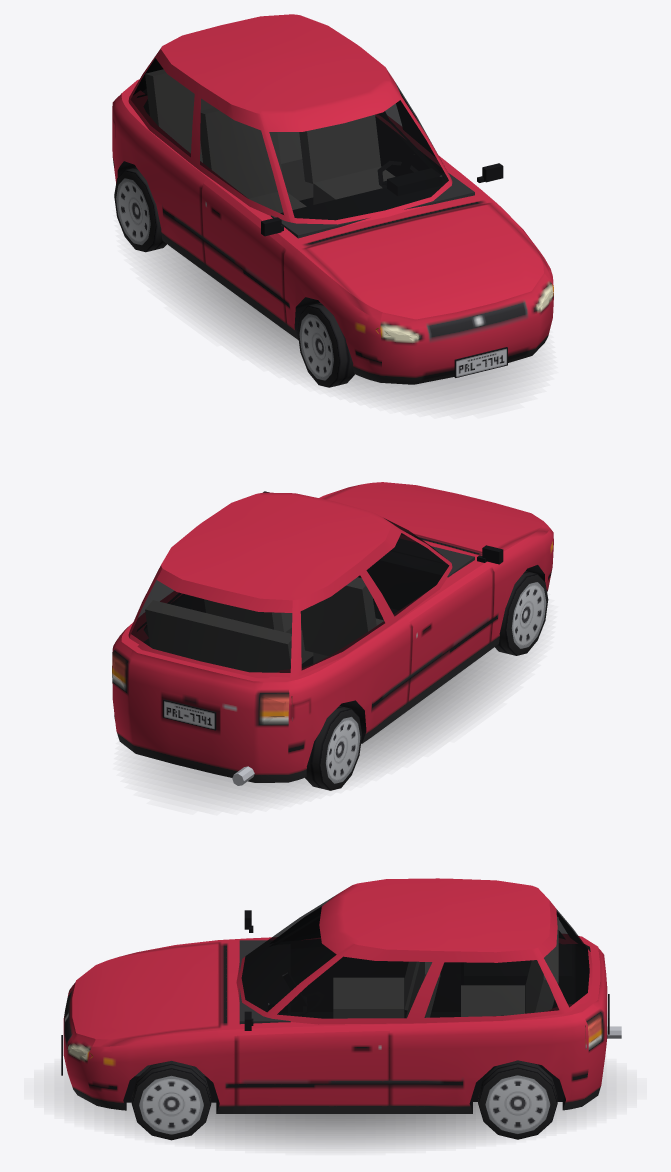
The model's file is pirulito.glb.
The picture shows the model from 3 angles, top to bottom: view 1: azimuth 30°, elevation 25°; view 2: azimuth 150°, elevation 25°; view 3: azimuth 270°, elevation 25°; orthographic projection. The views are drawn at different scales.
Parts seen in each view (by area): view 1: Carroceria, Interior, Capo_malha, Porta_D_malha, Sombra, Roda_DD, Roda_TD, Porta_E_malha; view 2: Carroceria, Tampa_malha, Interior, Porta_D_malha, Sombra, Capo_malha, Roda_TD, Roda_DD, Lanterna; view 3: Carroceria, Interior, Porta_E_malha, Capo_malha, Sombra, Roda_DE, Roda_TE, Tampa_malha, Porta_D_malha.
Boxes of the visible parts, x1=… form: Carroceria: x1=112, y1=14, x2=553, y2=384; Interior: x1=137, y1=70, x2=474, y2=238; Capo_malha: x1=305, y1=203, x2=549, y2=320; Porta_D_malha: x1=201, y1=103, x2=290, y2=322; Sombra: x1=146, y1=244, x2=531, y2=404; Roda_DD: x1=297, y1=302, x2=354, y2=387; Roda_TD: x1=114, y1=167, x2=166, y2=252; Porta_E_malha: x1=385, y1=67, x2=503, y2=182; Carroceria: x1=112, y1=485, x2=553, y2=785; Tampa_malha: x1=127, y1=568, x2=292, y2=761; Interior: x1=137, y1=539, x2=474, y2=671; Porta_D_malha: x1=383, y1=525, x2=503, y2=701; Sombra: x1=142, y1=647, x2=522, y2=800; Capo_malha: x1=324, y1=482, x2=549, y2=552; Roda_TD: x1=305, y1=706, x2=362, y2=790; Roda_DD: x1=495, y1=571, x2=548, y2=655; Lanterna: x1=112, y1=652, x2=292, y2=722; Carroceria: x1=61, y1=878, x2=621, y2=1113; Interior: x1=135, y1=916, x2=590, y2=1076; Porta_E_malha: x1=237, y1=944, x2=389, y2=1105; Capo_malha: x1=78, y1=942, x2=219, y2=1046; Sombra: x1=64, y1=1076, x2=606, y2=1146; Roda_DE: x1=131, y1=1061, x2=211, y2=1140; Roda_TE: x1=478, y1=1060, x2=557, y2=1139; Tampa_malha: x1=538, y1=900, x2=609, y2=1075; Porta_D_malha: x1=244, y1=907, x2=320, y2=943.
Size of the model in its own units: 2.29 by 1.41 by 4.53.
Materials: 12 (6 with a texture image).
